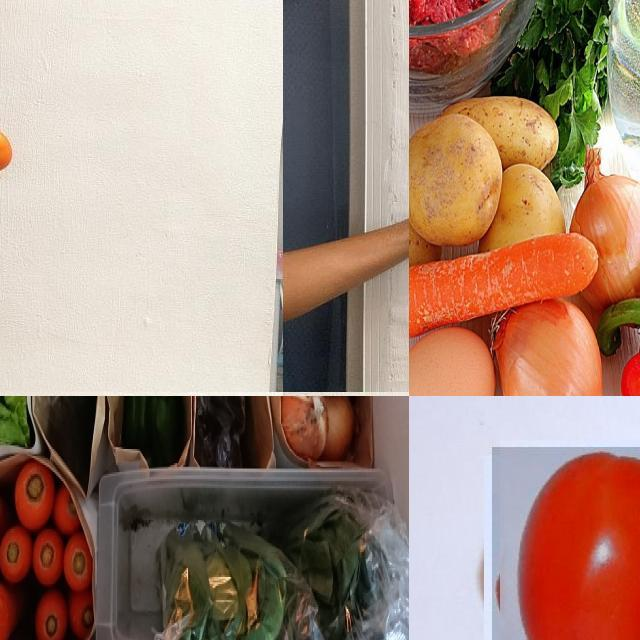carrot: (410, 229, 599, 356), (18, 462, 56, 530), (35, 589, 68, 640), (35, 532, 66, 585), (63, 538, 95, 588), (1, 528, 30, 579), (70, 590, 96, 640), (57, 484, 82, 532), (1, 584, 17, 640)
egg: (410, 327, 496, 397)
onion: (481, 286, 617, 397), (566, 142, 640, 335), (279, 397, 330, 464), (324, 397, 355, 459)
potato: (431, 82, 562, 183), (410, 111, 497, 242), (477, 151, 565, 265), (410, 152, 449, 290)
tomato: (493, 448, 640, 640)
